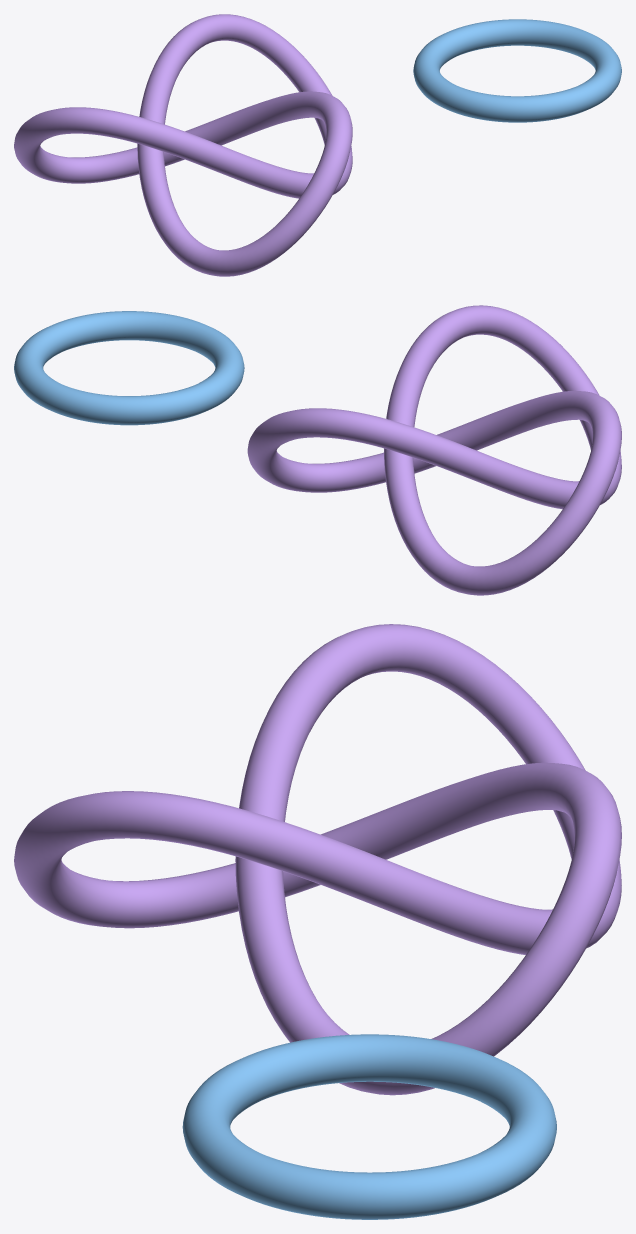
File: trefoil-circle.glb
3 renders of one model, top to bottom at view 1: azimuth 30°, elevation 25°; view 2: azimuth 150°, elevation 25°; view 3: azimuth 270°, elevation 25°, orthographic. The views are drawn at different scales.
Parts seen in each view (by area): view 1: Trefoil, Circle; view 2: Trefoil, Circle; view 3: Trefoil, Circle.
Part boxes in pixels (x1,y1,x2,y2): Trefoil: (14, 14, 352, 276); Circle: (413, 19, 621, 122); Trefoil: (247, 305, 621, 595); Circle: (14, 311, 244, 425); Trefoil: (14, 624, 621, 1095); Circle: (182, 1034, 556, 1219).
Size of the model in its own units: 4.35 by 1.02 by 2.31.
